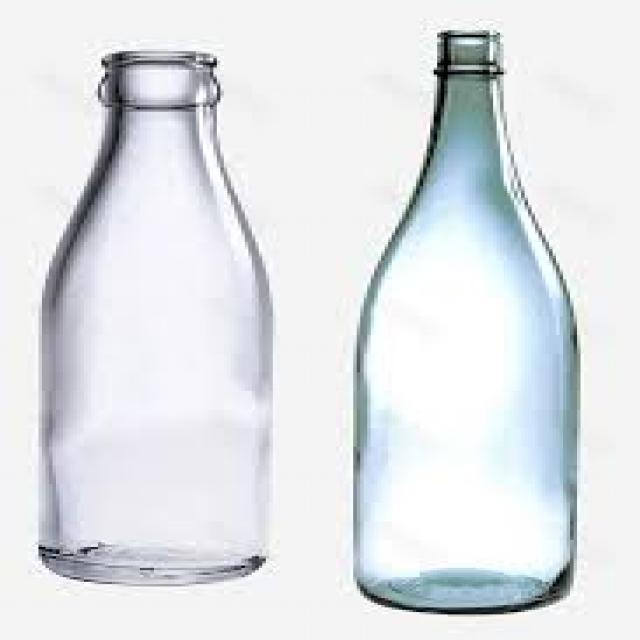Glass-Non-Biodegradable but Recyclable-: (36, 49, 273, 589)
